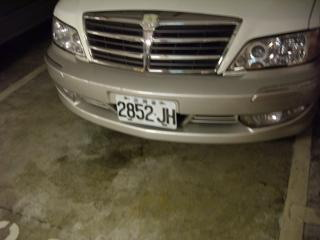plate: (114, 93, 180, 130)
